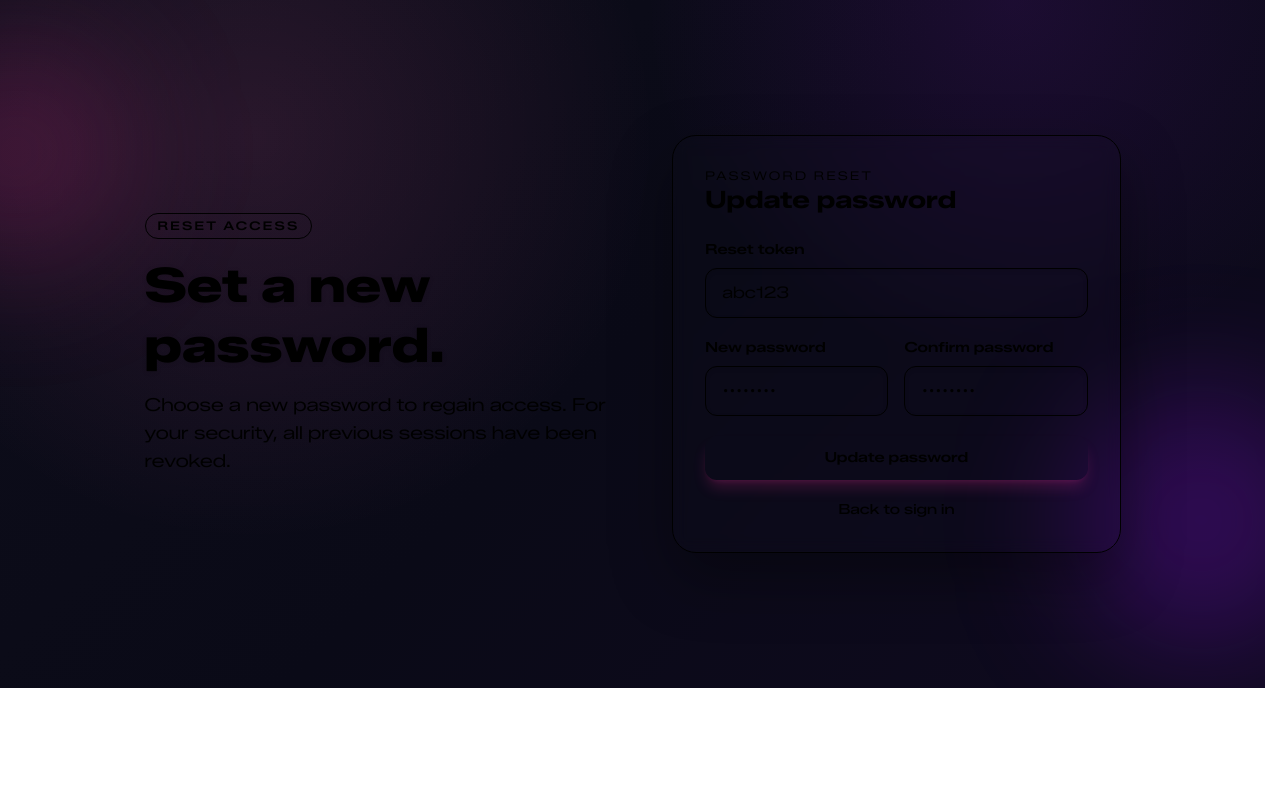
ResetPassword › shows error for invalid token
The width and height of the screenshot is (1280, 800).
Step 1. Type "password123" into the password field labelled "New password" → (797, 391), box [705,366,888,416]
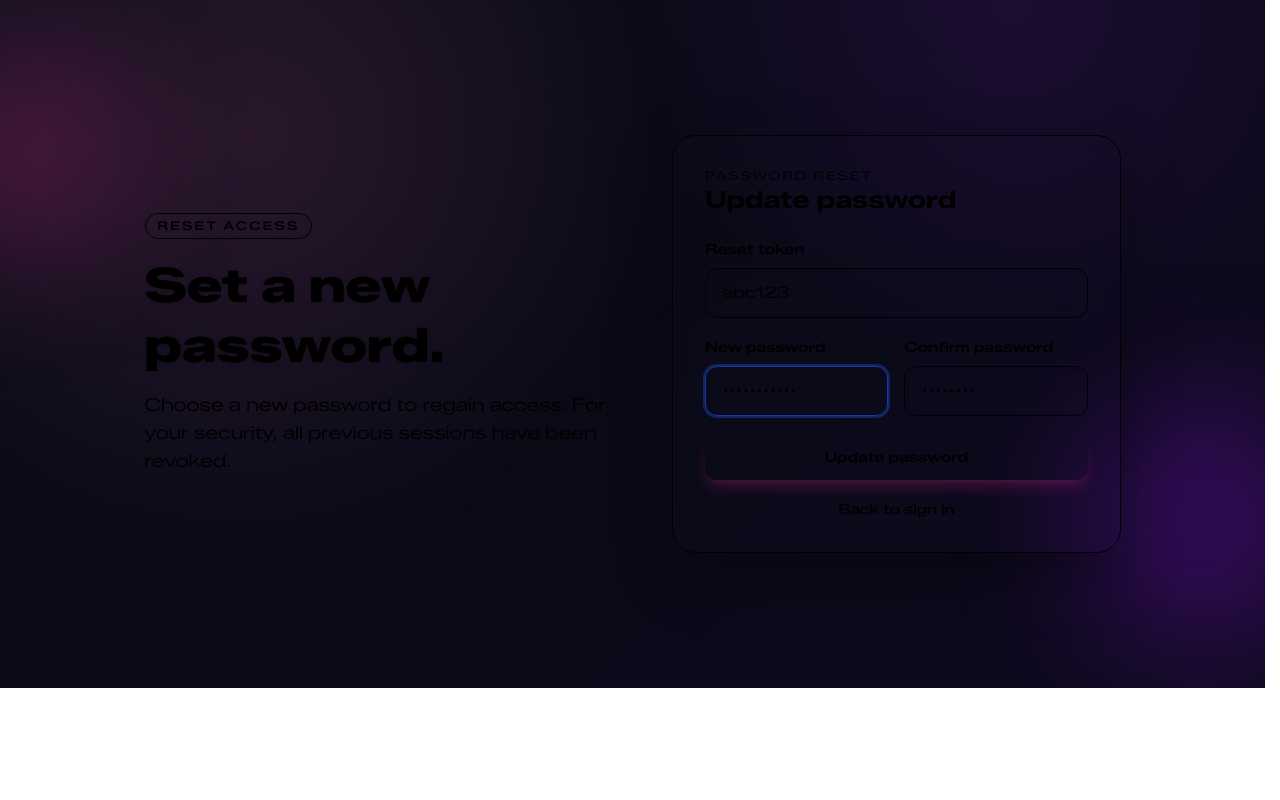
Step 2. Type "password123" into the password field labelled "Confirm password" → (996, 391), box [904,366,1088,416]
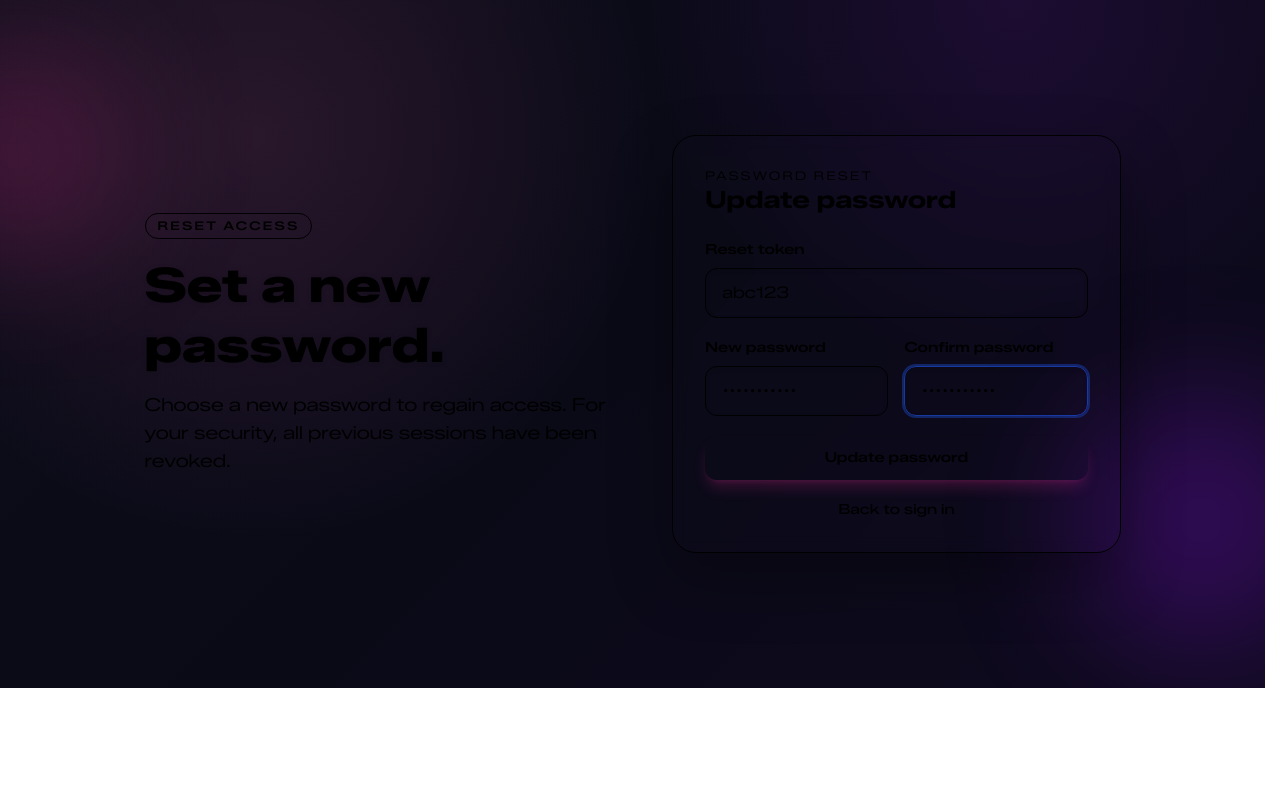
Step 3. Click the button "Update password" → (896, 458), box [705,436,1088,480]
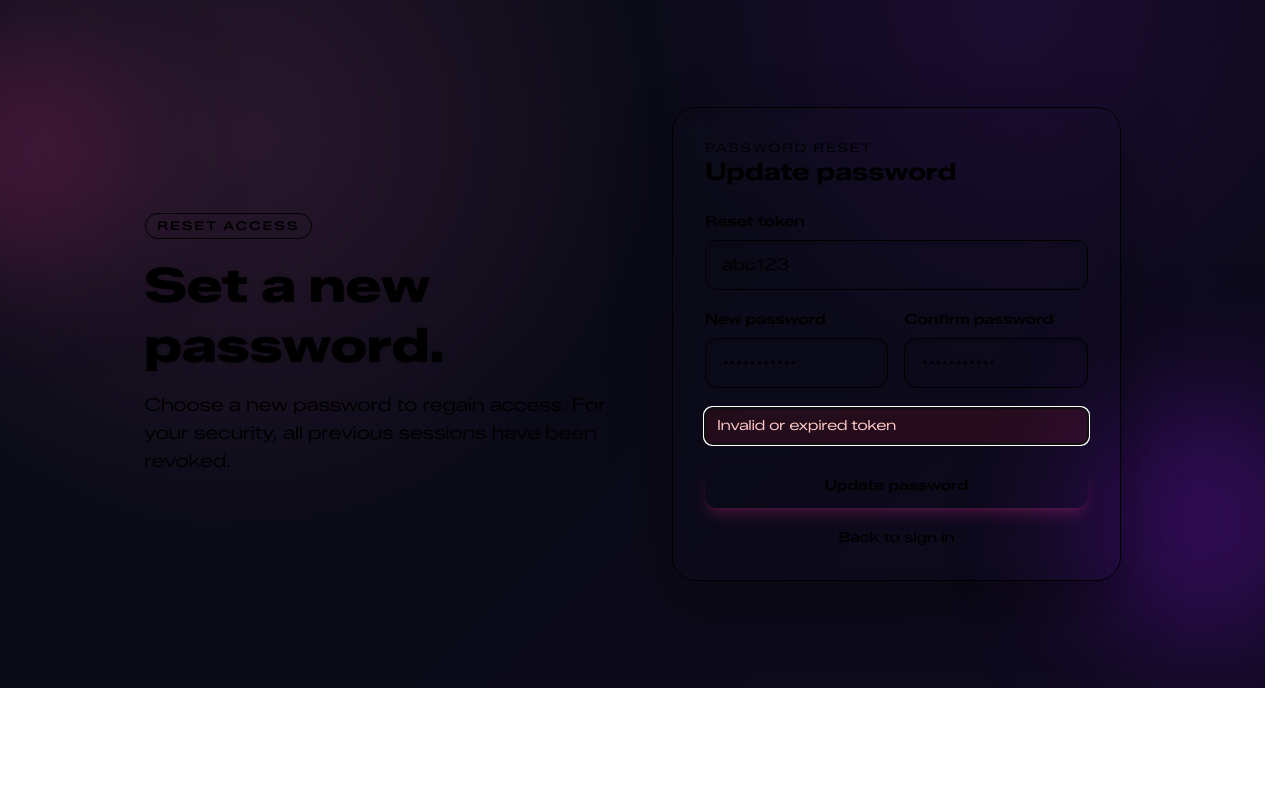
Expected: the text "Invalid or expired token" is shown, [705,408,1088,444]
